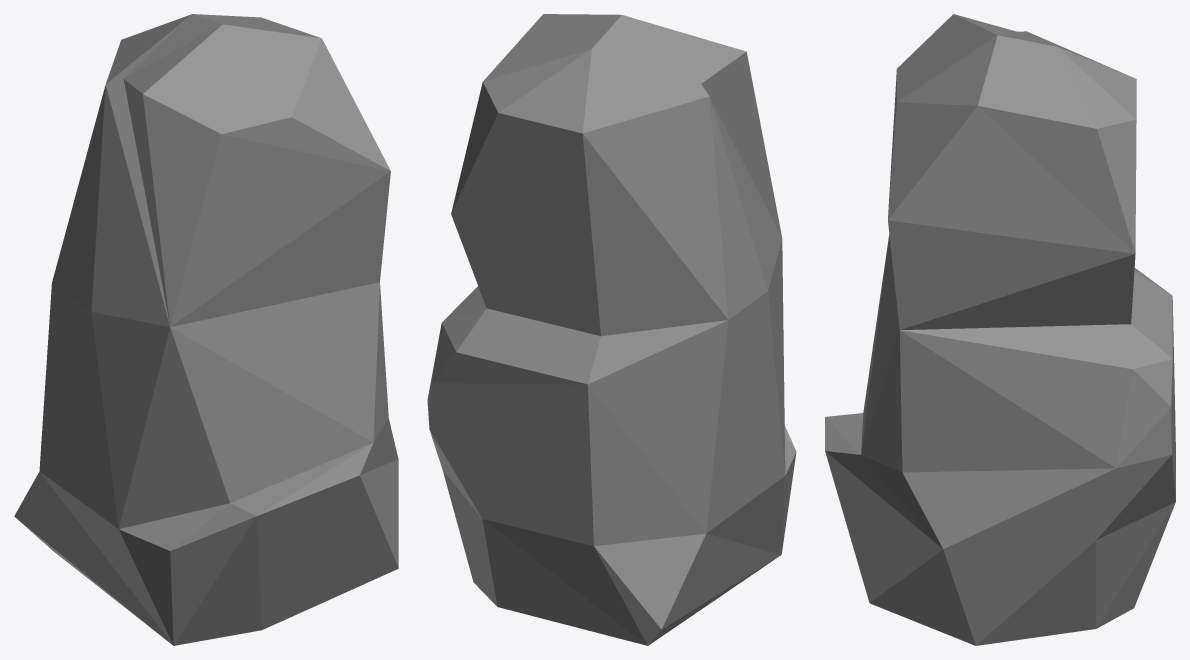
The model's file is Stone_B_02.FBX.
3 views of the same model, side by side, from view 1: azimuth 30°, elevation 25°; view 2: azimuth 150°, elevation 25°; view 3: azimuth 270°, elevation 25° (orthographic).
Visible parts, largest first — view 1: Stone_B_02; view 2: Stone_B_02; view 3: Stone_B_02.
Boxes of the visible parts, <box> form: Stone_B_02: <box>14,14,398,645</box>; Stone_B_02: <box>427,14,796,645</box>; Stone_B_02: <box>825,14,1175,645</box>.
Size of the model in its own units: 4.02 by 7.45 by 4.34.
